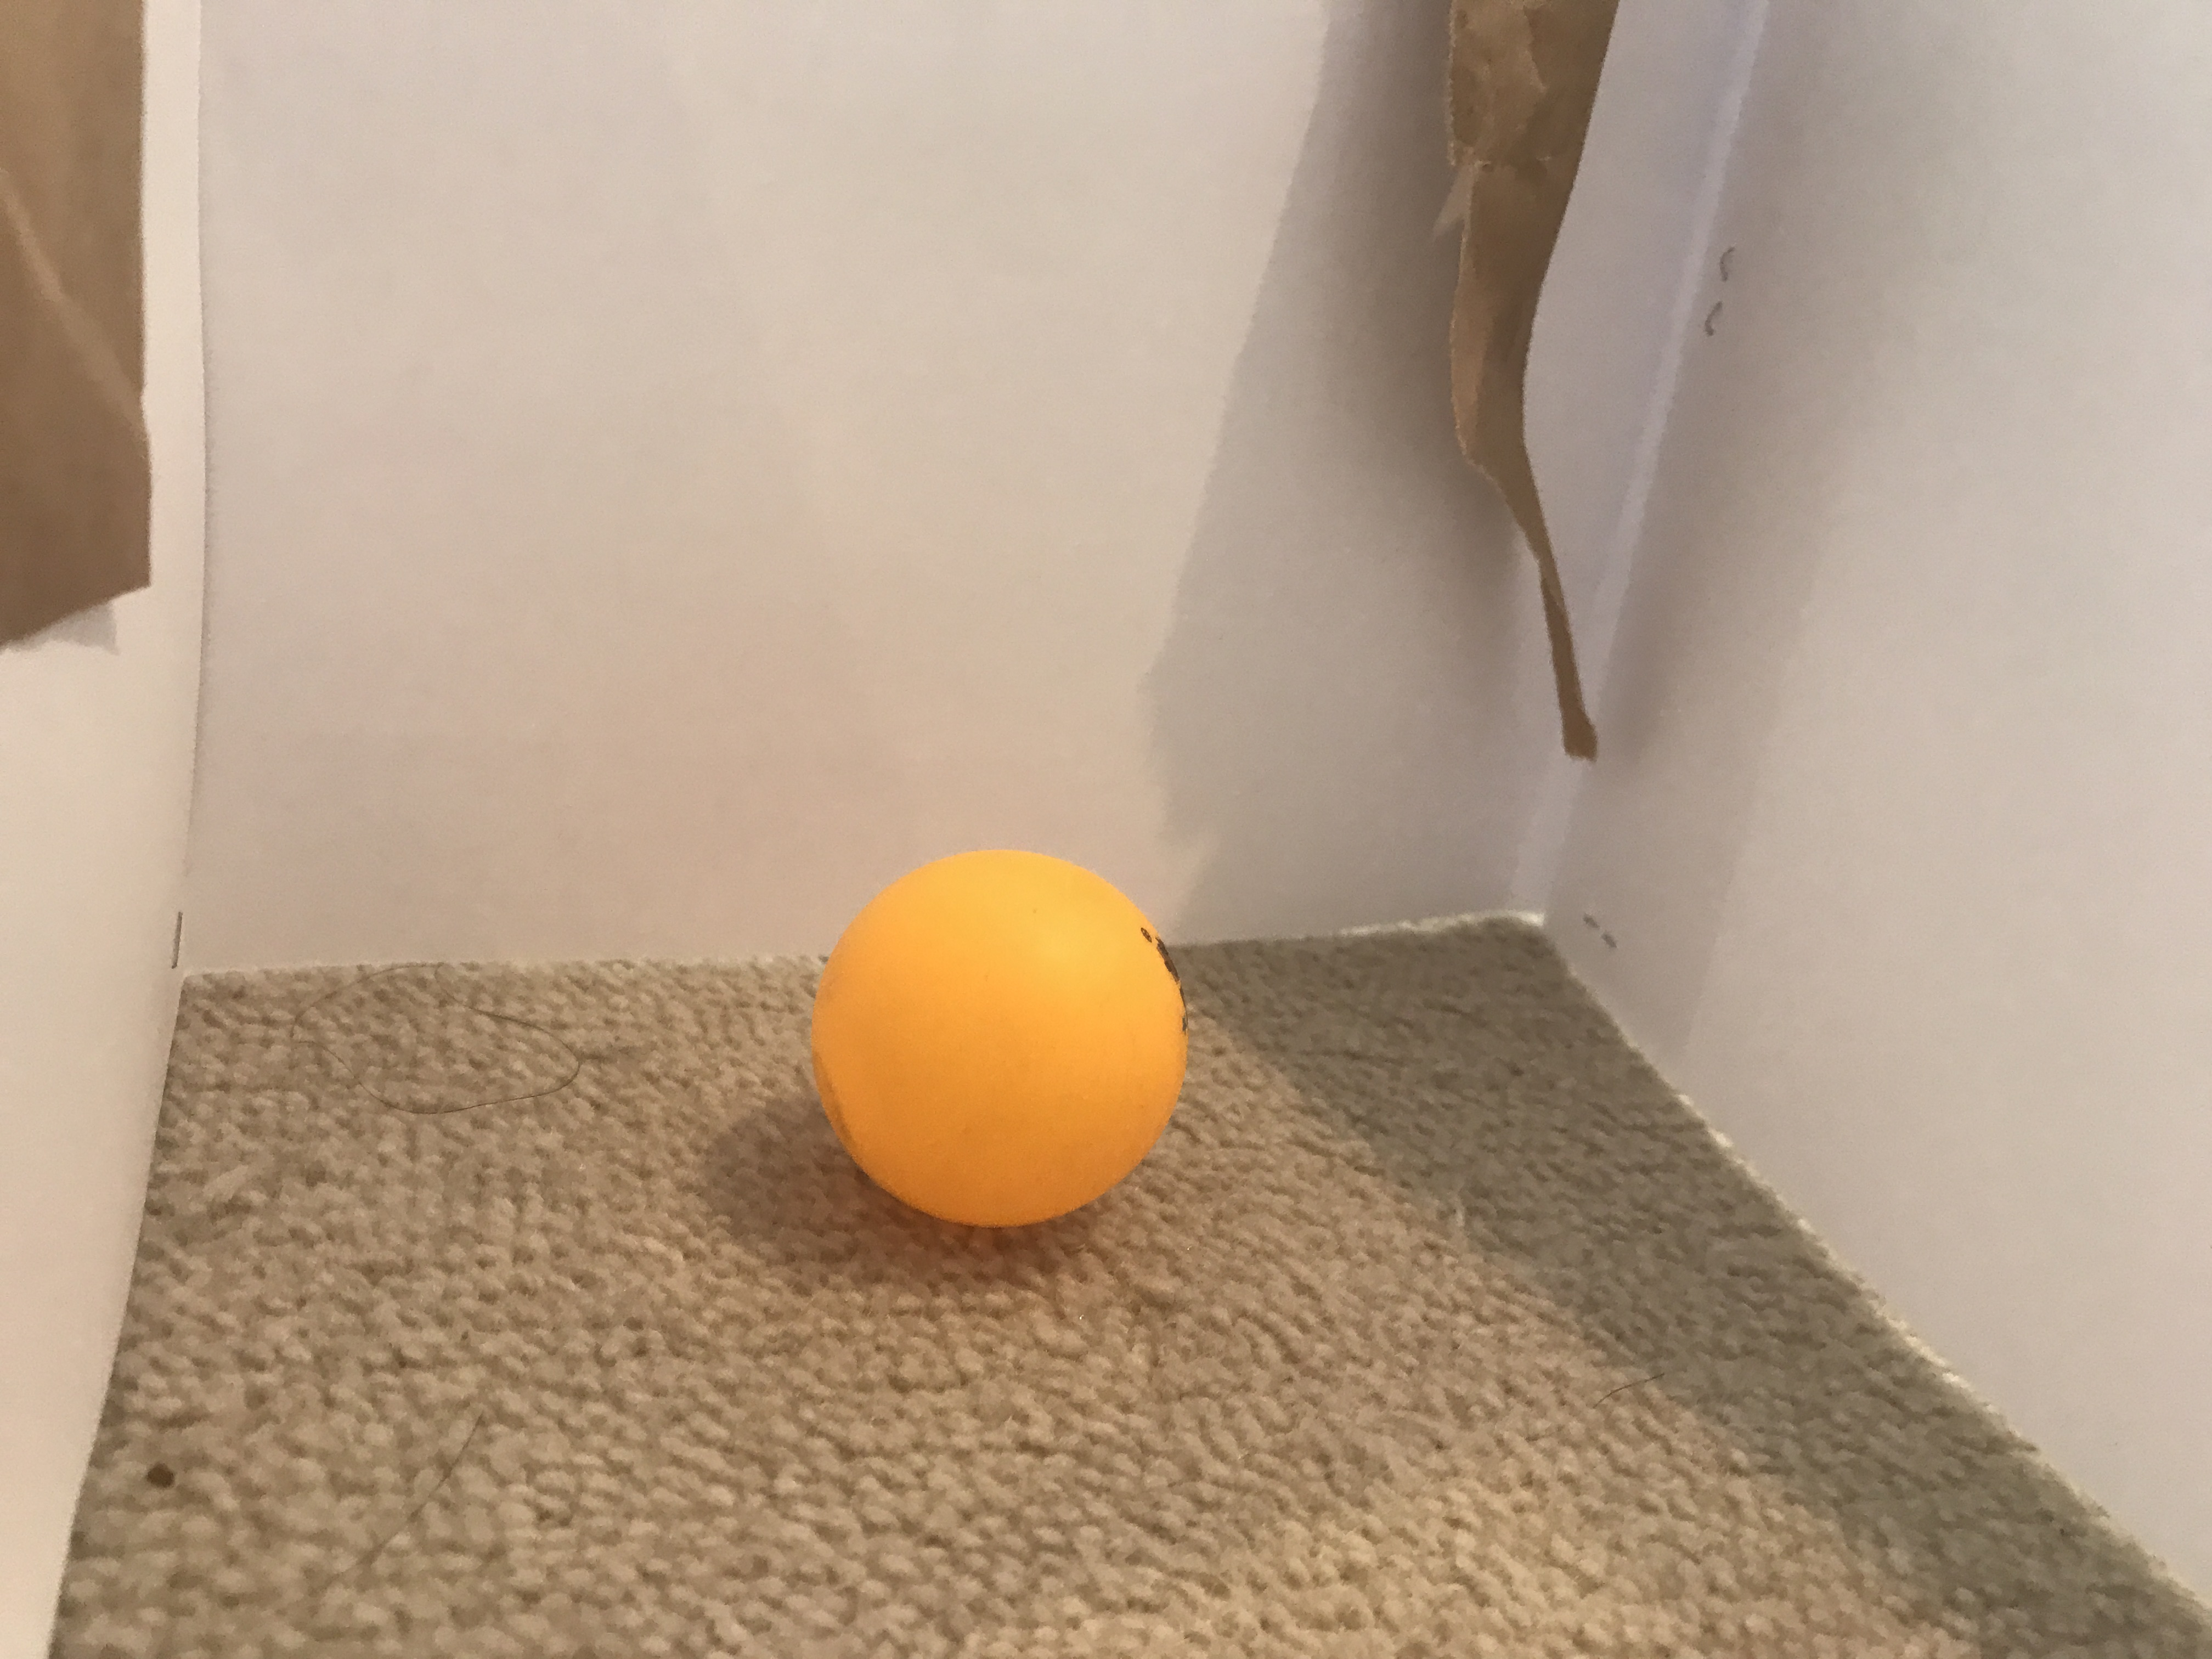pp: (808, 847, 1193, 1234)
